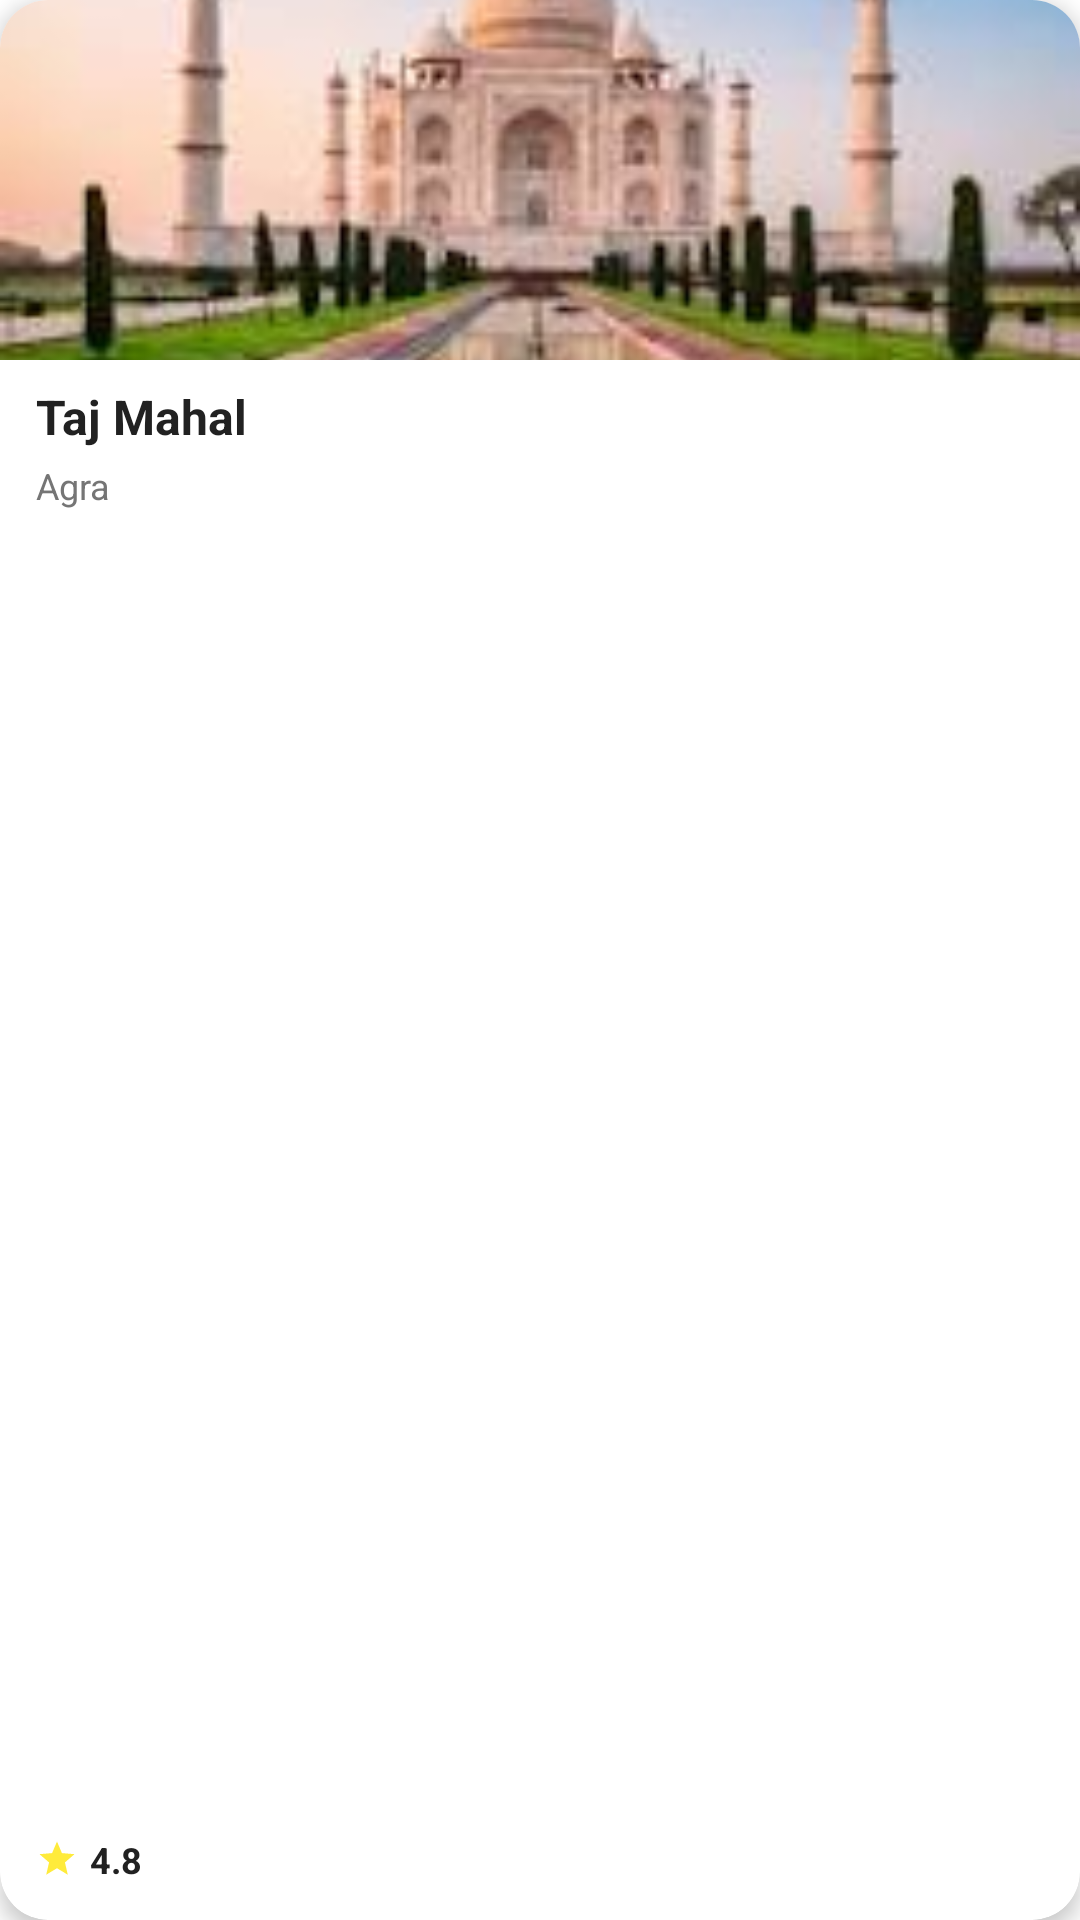

Named icons in this screenshot (1080×1920) and their centers, point (x, y):
Rating star: point (57, 1858)
